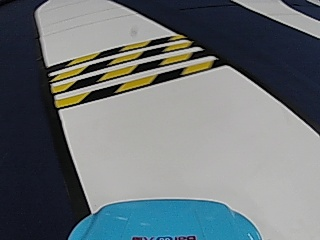bump: (62, 40, 175, 103)
